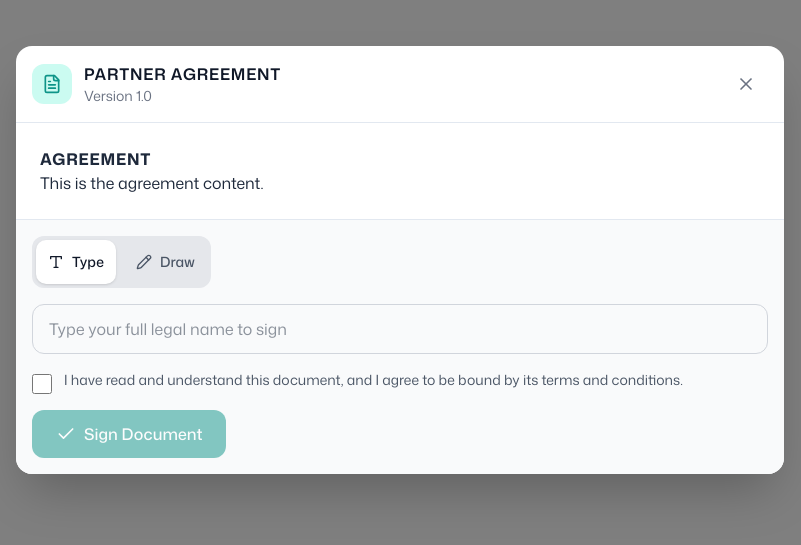
DocumentViewer › Signing process › shows error on failed sign
This screenshot has width=801, height=545.
Type "John Doe" into the field with placeholder "Type your full legal name to sign".
click(400, 329); type("John Doe")  # box [32,304,768,354]
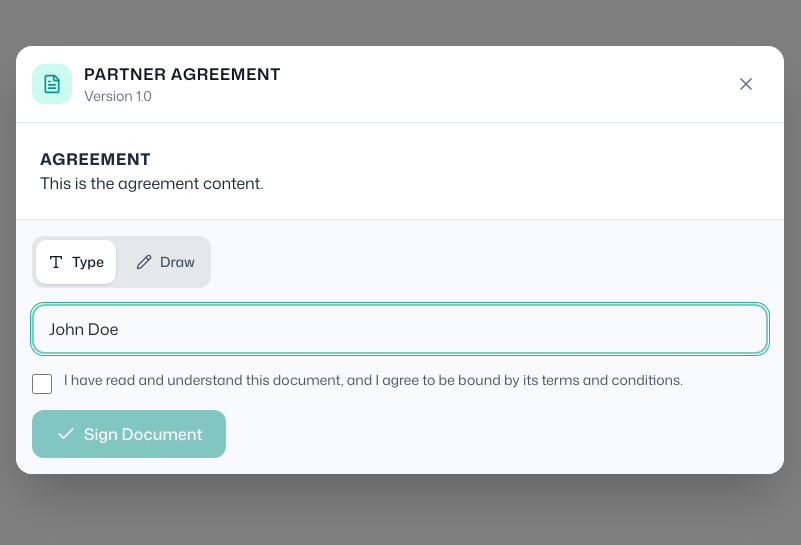
Click the checkbox.
click(42, 384)  # box [32,374,52,394]
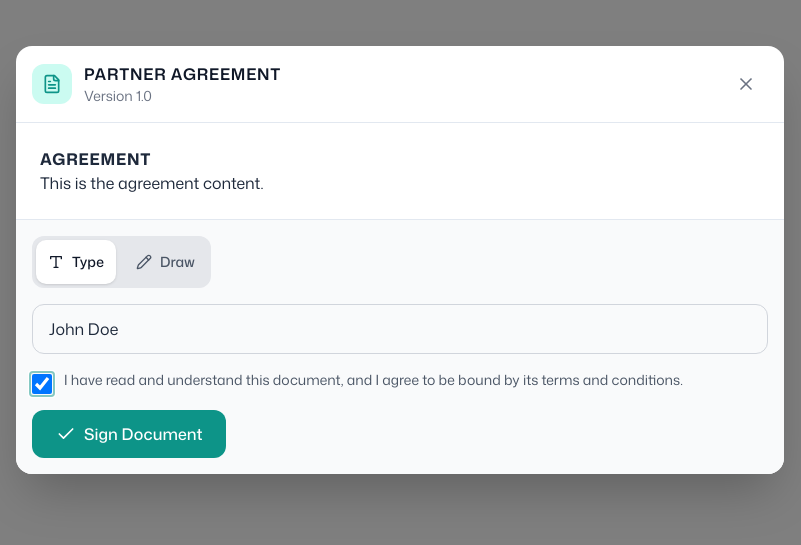
Click the button "Sign Document".
click(129, 434)  # box [32,410,226,458]
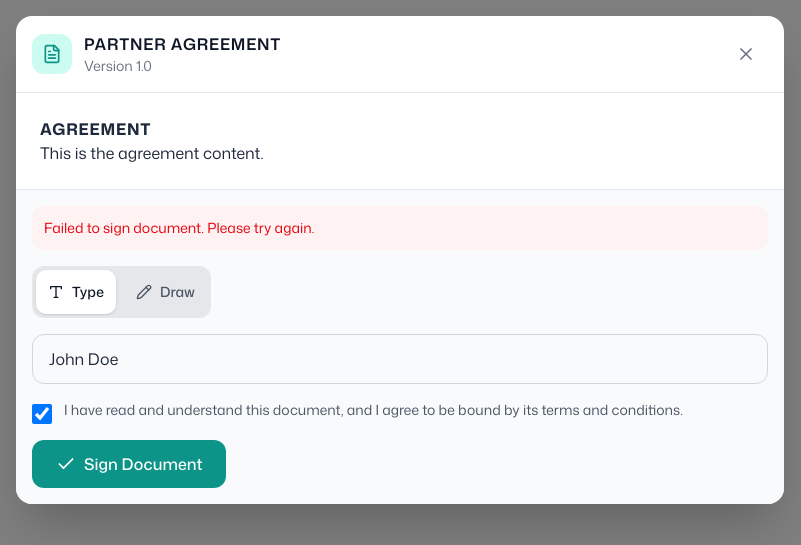
Result: the text "Failed to sign document. Please try again." is shown at [32,206,768,250]
